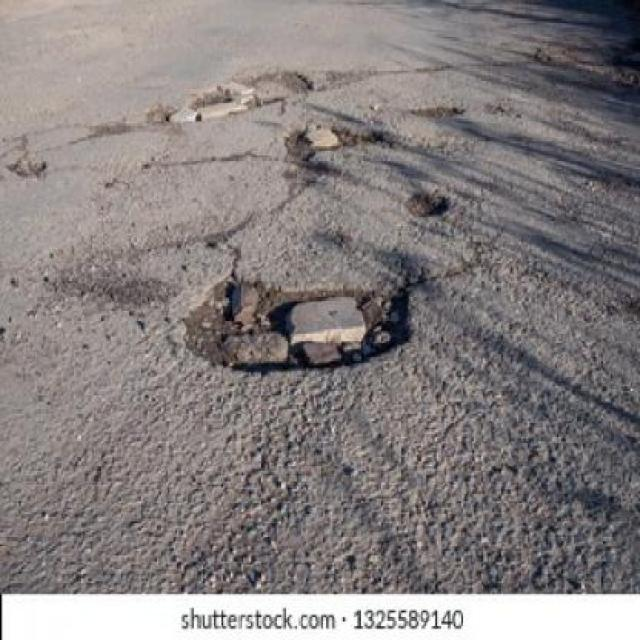Pothole: (173, 261, 416, 377), (281, 117, 391, 197)
